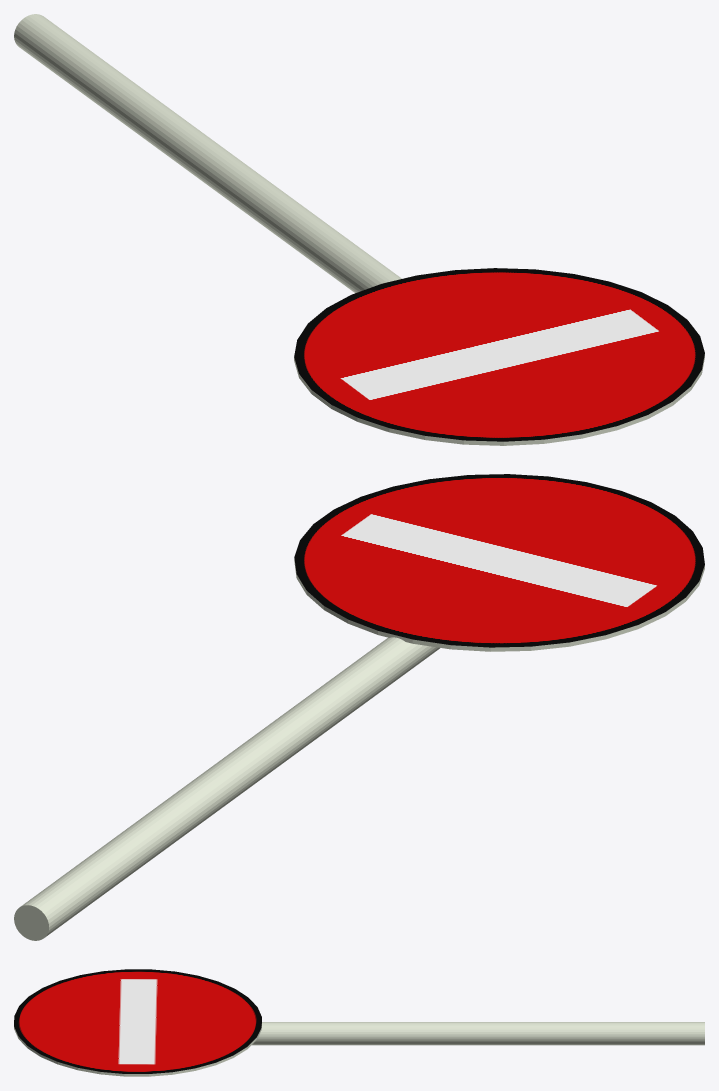
File: forbidden_tube.glb
3 renders of one model, top to bottom at view 1: azimuth 30°, elevation 25°; view 2: azimuth 150°, elevation 25°; view 3: azimuth 270°, elevation 25°, orthographic. The views are drawn at different scales.
Parts seen in each view (by area): view 1: Circle.002, forbidden_tube; view 2: Circle.002, forbidden_tube; view 3: Circle.002, forbidden_tube.
Boxes of the visible parts, left/top/right/bottom form: Circle.002: left=294, top=268, right=704, bottom=445; forbidden_tube: left=14, top=14, right=401, bottom=293; Circle.002: left=294, top=474, right=704, bottom=651; forbidden_tube: left=14, top=637, right=439, bottom=940; Circle.002: left=14, top=969, right=261, bottom=1076; forbidden_tube: left=252, top=1022, right=704, bottom=1045.
Size of the model in its own units: 0.0516 by 0.00514 by 0.1437.
3 materials, 1 textured.
